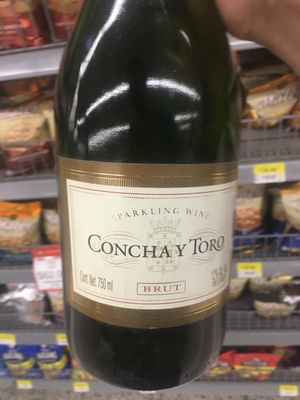brut: (45, 7, 250, 386)
